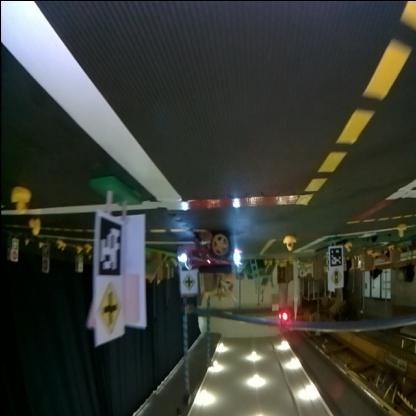Duckie: (11, 186, 32, 212), (282, 236, 296, 252), (29, 218, 39, 235), (86, 245, 91, 252), (60, 242, 64, 249)
Duckiebot: (180, 232, 232, 276)
Intersection sign: (100, 282, 120, 336), (182, 274, 196, 292)
QR code: (98, 217, 119, 273), (328, 247, 340, 265)
Signal sign: (329, 267, 342, 287)
Stop sign: (43, 264, 48, 272)
Traffic light: (277, 305, 294, 330)
